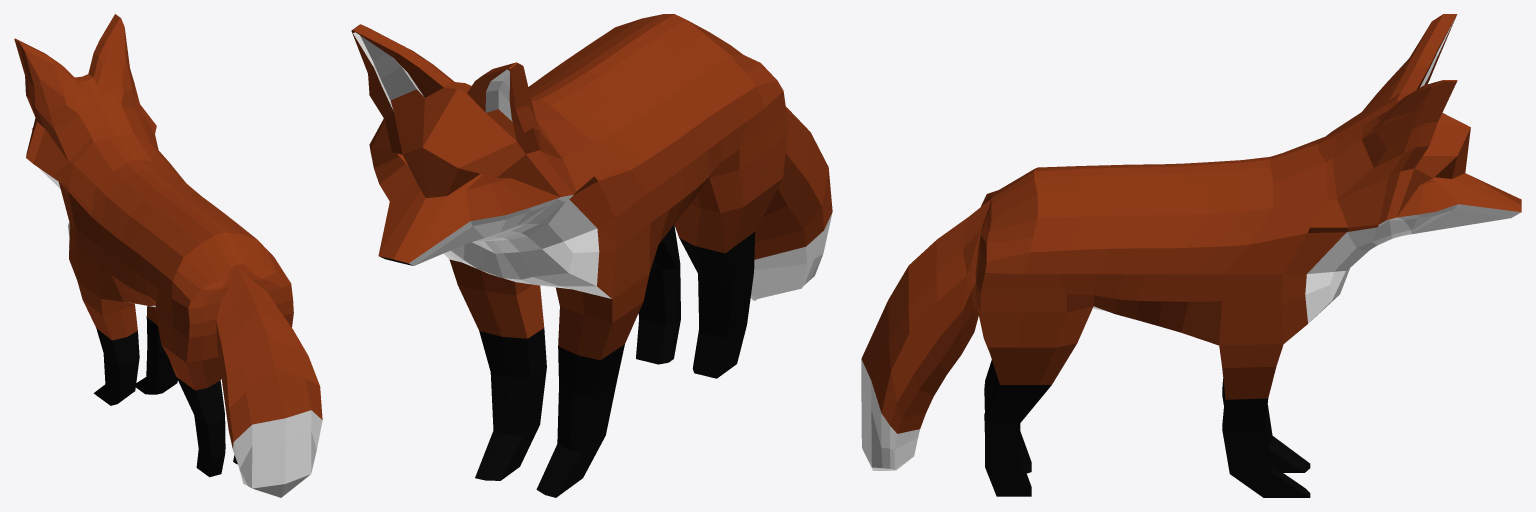
File: EDITEDFoxy.fbx
The picture shows the model from 3 angles, left to right: view 1: azimuth 30°, elevation 25°; view 2: azimuth 150°, elevation 25°; view 3: azimuth 270°, elevation 25°; orthographic projection. The views are drawn at different scales.
Parts seen in each view (by area): view 1: Foxy1; view 2: Foxy1; view 3: Foxy1.
Part boxes in pixels (bbox=[...]): Foxy1: bbox=[14, 14, 322, 497]; Foxy1: bbox=[351, 14, 832, 497]; Foxy1: bbox=[861, 14, 1521, 497].
Bounding box in the file's own units: 20.21 × 47.33 × 65.27.
